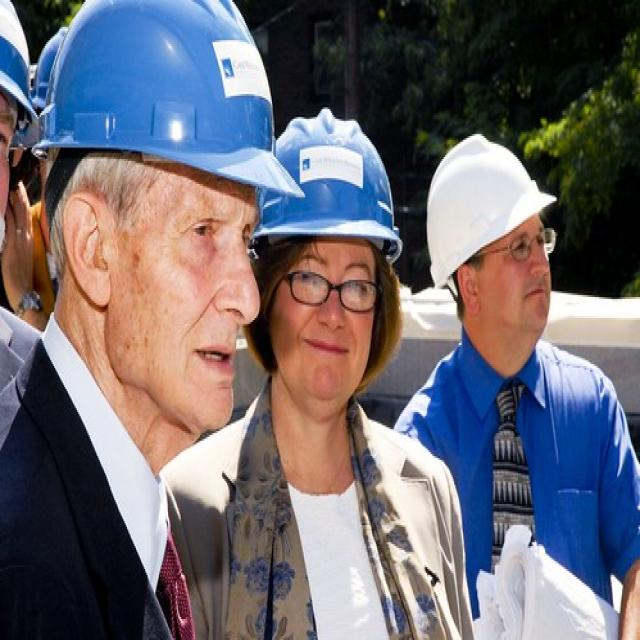Safety-Helmet: (33, 8, 295, 201), (247, 103, 408, 264), (422, 132, 557, 284), (1, 1, 38, 132)
